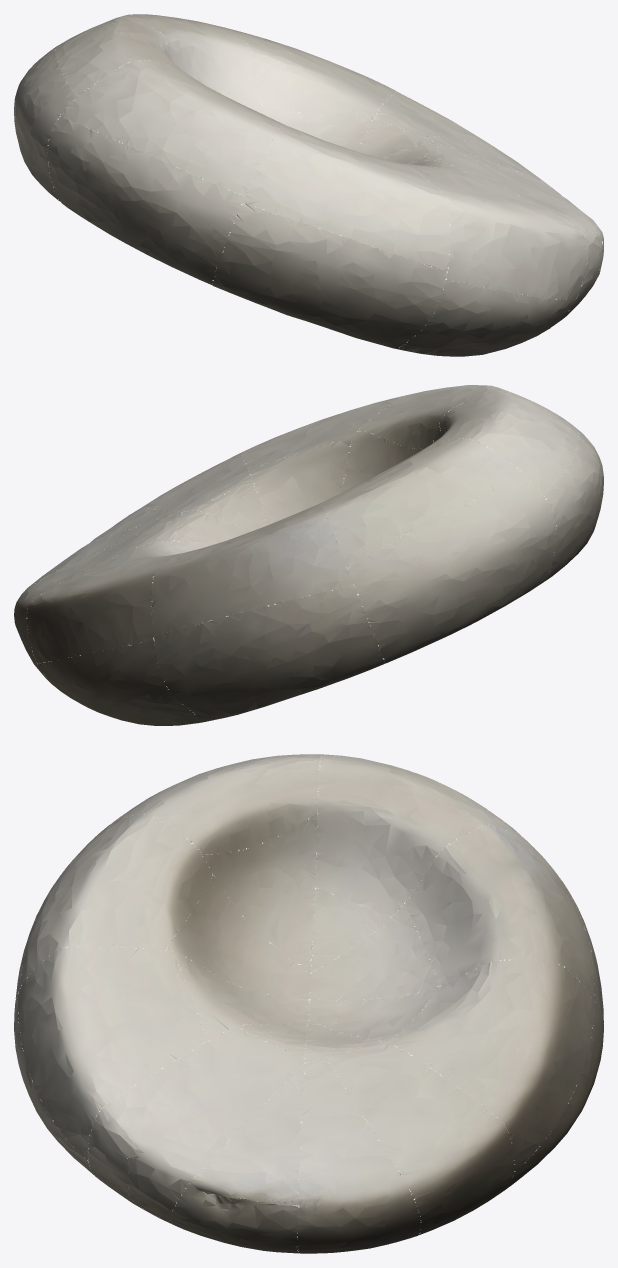
The model's file is witness-without-a-name-slim.glb.
3 renders of one model, top to bottom at view 1: azimuth 30°, elevation 25°; view 2: azimuth 150°, elevation 25°; view 3: azimuth 270°, elevation 25°, orthographic. The views are drawn at different scales.
Visible parts, largest first — view 1: tripo_node_cb633fac-9d0b-4295-abac-3a2fb5ed35f4; view 2: tripo_node_cb633fac-9d0b-4295-abac-3a2fb5ed35f4; view 3: tripo_node_cb633fac-9d0b-4295-abac-3a2fb5ed35f4.
Boxes of the visible parts, left/top/right/bottom form: tripo_node_cb633fac-9d0b-4295-abac-3a2fb5ed35f4: left=14, top=14, right=603, bottom=356; tripo_node_cb633fac-9d0b-4295-abac-3a2fb5ed35f4: left=14, top=385, right=603, bottom=725; tripo_node_cb633fac-9d0b-4295-abac-3a2fb5ed35f4: left=14, top=754, right=603, bottom=1253.
Bounding box in the file's own units: 0.9999 × 0.589 × 0.9835.
1 material, 1 textured.
